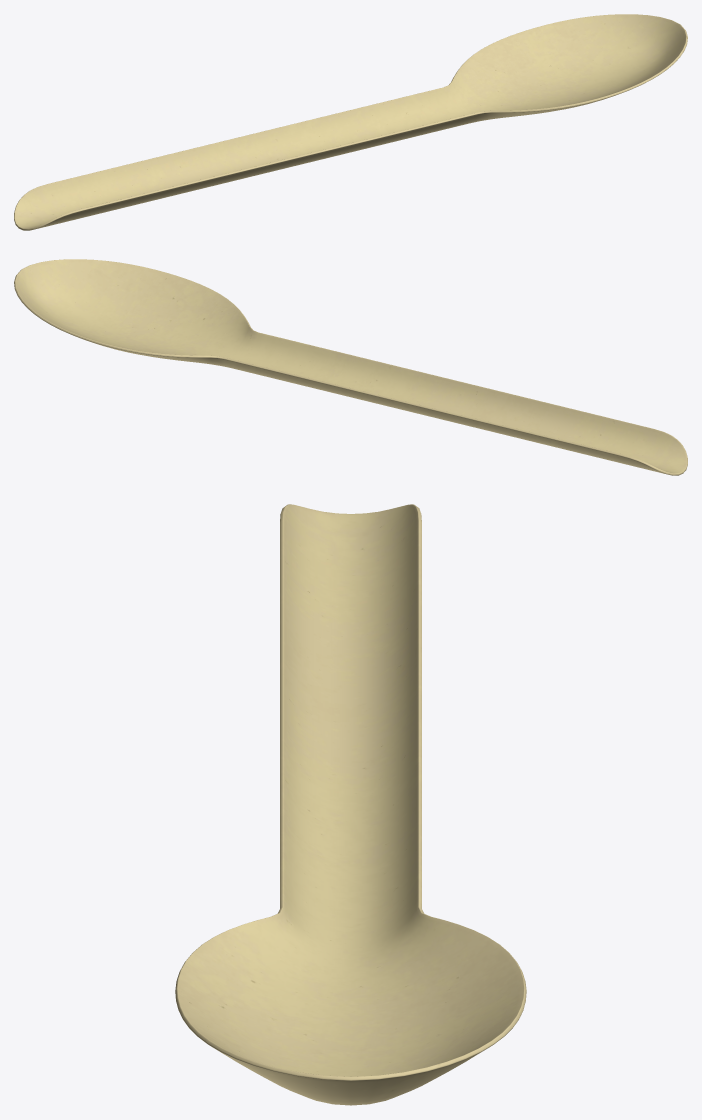
File: kutlery-spoon-transformed.glb
3 views of the same model, one above another, from view 1: azimuth 30°, elevation 25°; view 2: azimuth 150°, elevation 25°; view 3: azimuth 270°, elevation 25° (orthographic). The views are drawn at different scales.
Parts seen in each view (by area): view 1: geo_spoon; view 2: geo_spoon; view 3: geo_spoon.
Part boxes in pixels (<box>): geo_spoon: <box>14,14,687,230</box>; geo_spoon: <box>14,259,687,475</box>; geo_spoon: <box>175,504,526,1105</box>.
Size of the model in its own units: 0.1548 by 0.00969 by 0.0355.
1 material, 1 textured.
